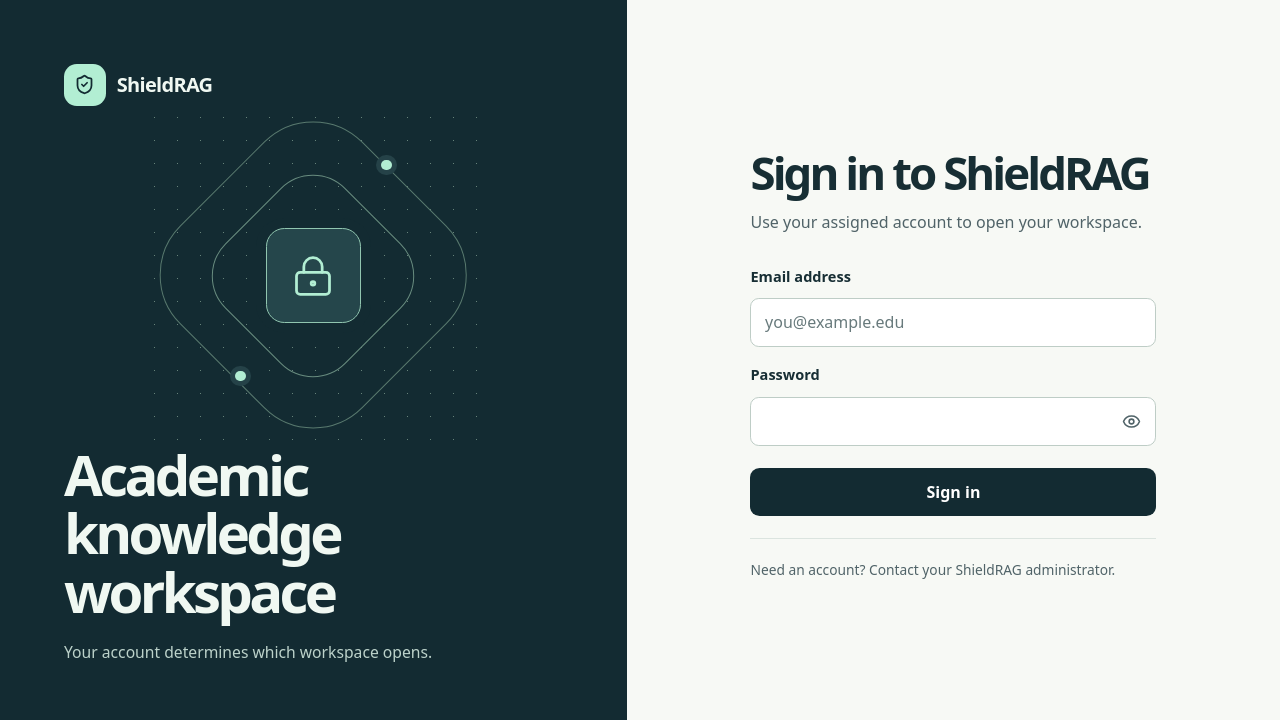
Test: login and routing › redirects anonymous deep links to login and validates required fields
This screenshot has width=1280, height=720.
Step 1. Click the button "Sign in" → x=954, y=492, box [750, 468, 1156, 516]
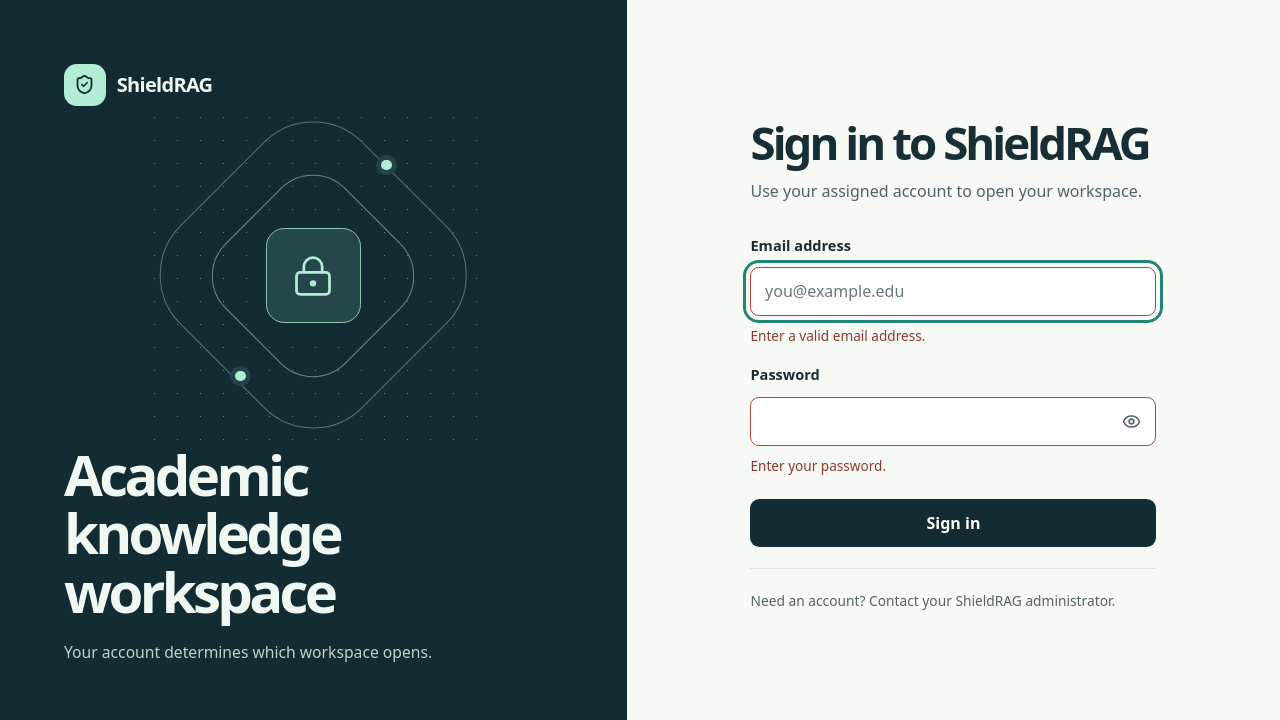
Check: the text "Enter a valid email address." is shown, box [750, 326, 925, 345]
Check: the text "Enter your password." is shown, box [750, 456, 886, 475]
